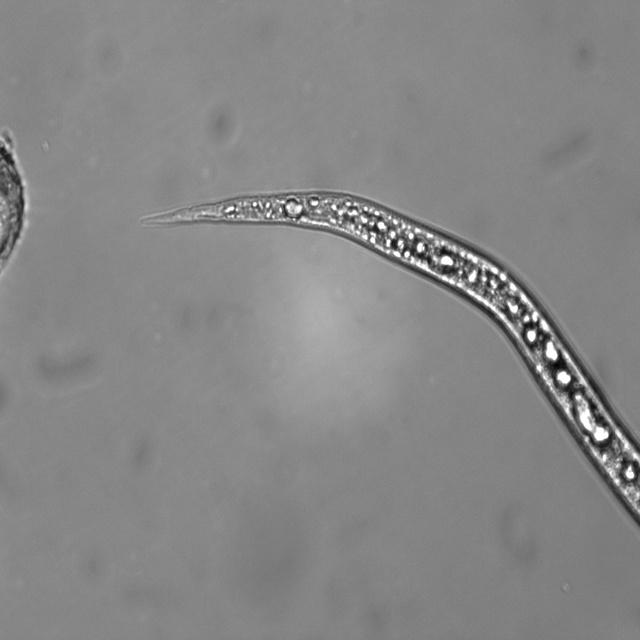Meloidogyne: (121, 187, 640, 530)
